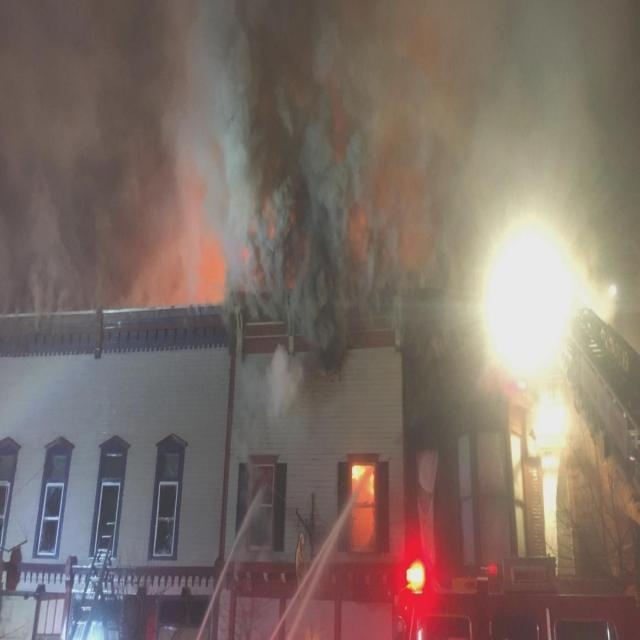Fire: (352, 464, 366, 483), (370, 472, 375, 493)
